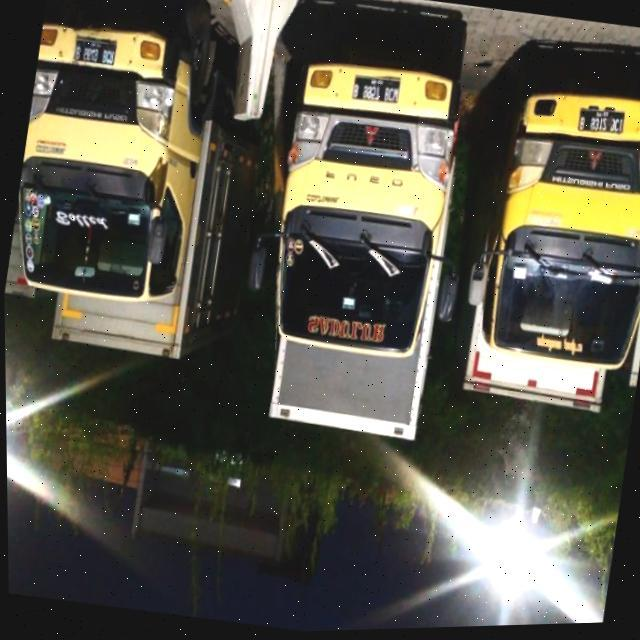truck: (0, 0, 264, 394), (244, 49, 476, 458), (450, 68, 640, 436)
